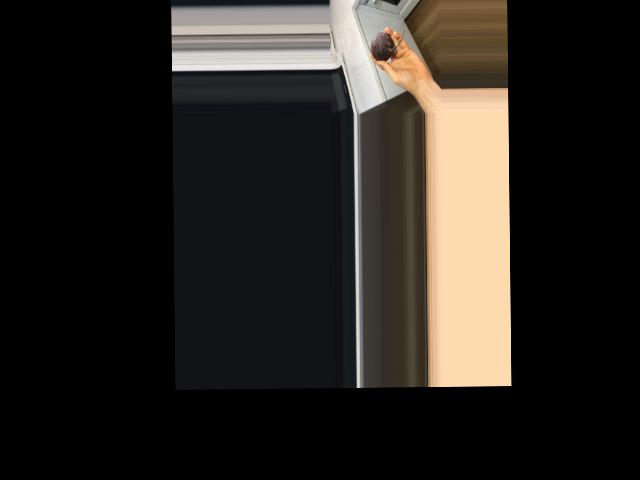beet: (370, 28, 405, 60)
